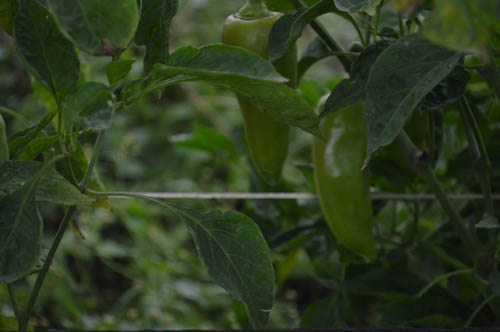ChiliPepper: (226, 17, 299, 184), (311, 94, 382, 258)
